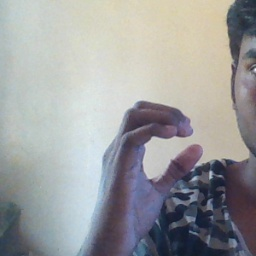C: (119, 100, 208, 199)
